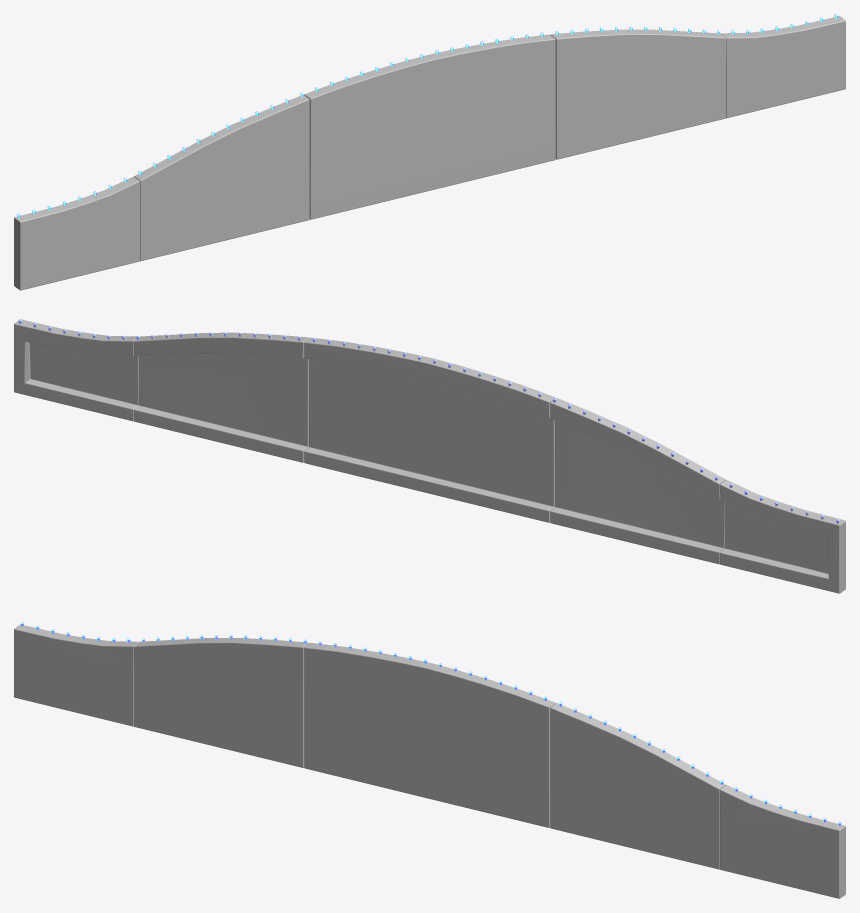
Rendered from SM_BumperCar_Side_01b.fbx.
The picture shows the model from 3 angles, top to bottom: view 1: azimuth 30°, elevation 25°; view 2: azimuth 150°, elevation 25°; view 3: azimuth 330°, elevation 25°; orthographic projection.
Visible parts, largest first — view 1: SM_BumperCar_Side_01b_LOD0; view 2: SM_BumperCar_Side_01b_LOD0; view 3: SM_BumperCar_Side_01b_LOD0.
Boxes of the visible parts, x1=… form: SM_BumperCar_Side_01b_LOD0: x1=14, y1=14, x2=845, y2=290; SM_BumperCar_Side_01b_LOD0: x1=14, y1=319, x2=845, y2=593; SM_BumperCar_Side_01b_LOD0: x1=14, y1=622, x2=845, y2=898.
Size of the model in its own units: 2989 by 41.75 by 463.
